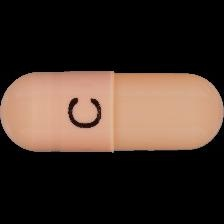50436-0108: (0, 0, 224, 224)
